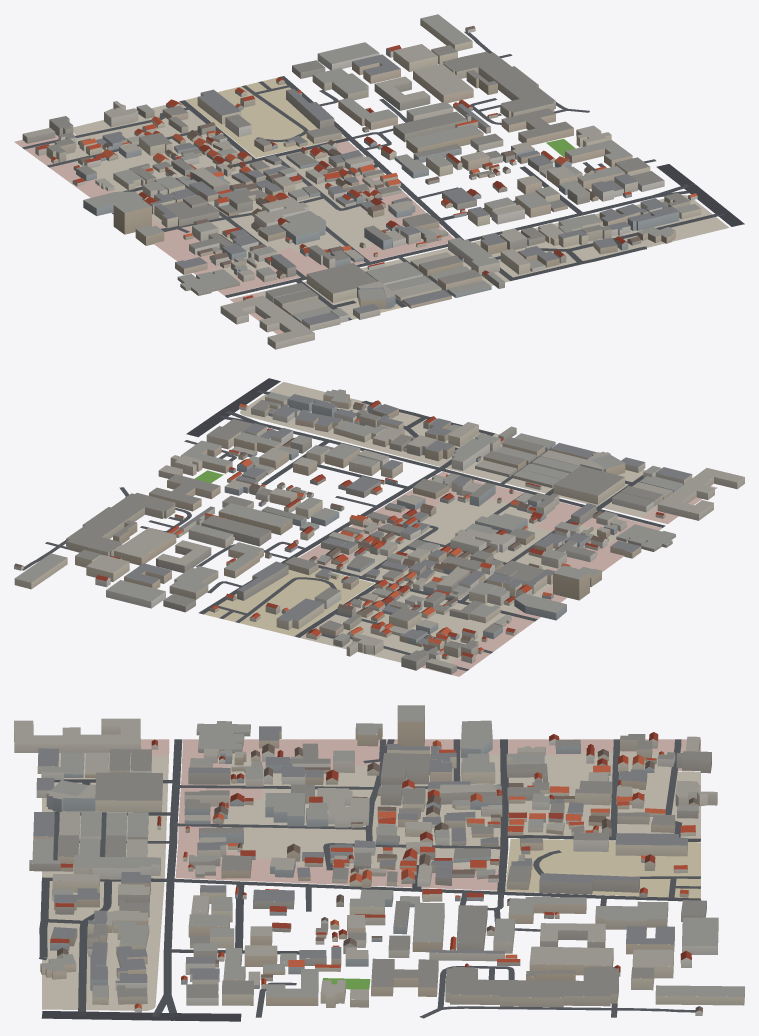
The picture shows the model from 3 angles, top to bottom: view 1: azimuth 30°, elevation 25°; view 2: azimuth 150°, elevation 25°; view 3: azimuth 270°, elevation 25°; orthographic projection. The views are drawn at different scales.
Parts seen in each view (by area): view 1: buildings_roofs, buildings_walls, landuse, roads; view 2: buildings_roofs, buildings_walls, landuse, roads; view 3: buildings_roofs, buildings_walls, landuse, roads.
Boxes of the visible parts, x1=… form: buildings_roofs: x1=23, y1=14, x2=700, y2=342; buildings_walls: x1=22, y1=18, x2=701, y2=349; landuse: x1=14, y1=77, x2=729, y2=334; roads: x1=22, y1=31, x2=744, y2=320; buildings_roofs: x1=14, y1=389, x2=744, y2=668; buildings_walls: x1=14, y1=391, x2=744, y2=674; landuse: x1=194, y1=382, x2=717, y2=676; roads: x1=22, y1=378, x2=665, y2=671; buildings_roofs: x1=14, y1=705, x2=744, y2=1011; buildings_walls: x1=14, y1=716, x2=744, y2=1015; landuse: x1=42, y1=739, x2=700, y2=1010; roads: x1=39, y1=739, x2=700, y2=1021.
Size of the model in its own units: 533 by 22.42 by 555.
